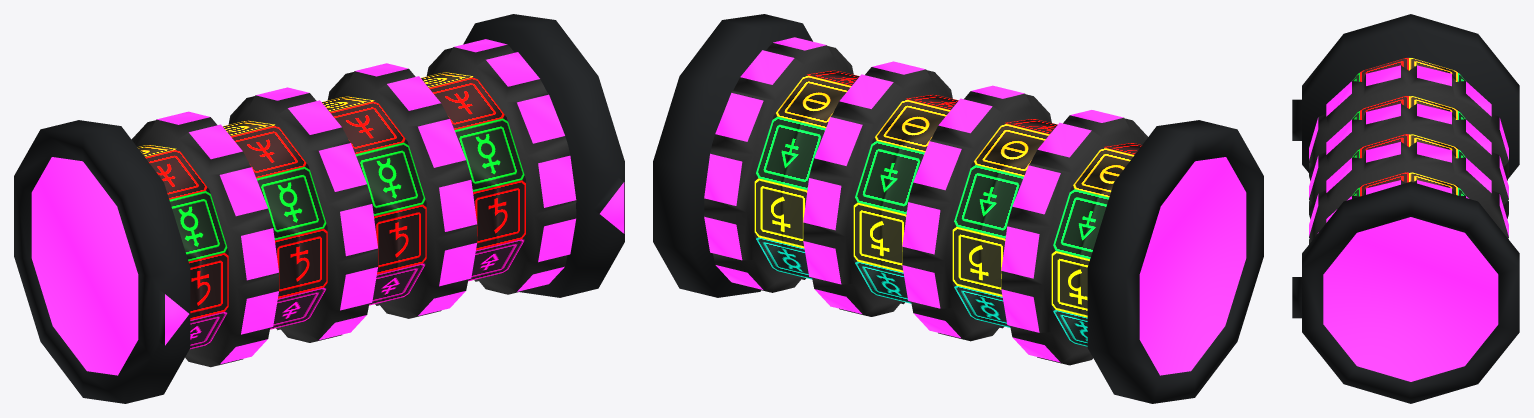
The model's file is Padlock_Roman_Numbers.glb.
3 views of the same model, side by side, from view 1: azimuth 30°, elevation 25°; view 2: azimuth 150°, elevation 25°; view 3: azimuth 270°, elevation 25° (orthographic). The views are drawn at different scales.
Parts seen in each view (by area): view 1: PiratePadlock_01_base, Cylinder.014, Cylinder.012, Cylinder.013, Cylinder.016; view 2: PiratePadlock_01_base, Cylinder.013, Cylinder.014, Cylinder.012, Cylinder.016; view 3: PiratePadlock_01_base, Cylinder.012, Cylinder.016, Cylinder.013, Cylinder.014.
Part boxes in pixels (x1,y1,x2,y2): PiratePadlock_01_base: [14, 14, 624, 403]; Cylinder.014: [421, 39, 576, 294]; Cylinder.012: [223, 87, 378, 342]; Cylinder.013: [321, 63, 477, 318]; Cylinder.016: [131, 111, 278, 367]; PiratePadlock_01_base: [653, 14, 1263, 403]; Cylinder.013: [803, 61, 958, 316]; Cylinder.014: [704, 37, 859, 292]; Cylinder.012: [902, 85, 1057, 341]; Cylinder.016: [1001, 110, 1147, 365]; PiratePadlock_01_base: [1292, 14, 1519, 403]; Cylinder.012: [1309, 95, 1508, 219]; Cylinder.016: [1309, 57, 1508, 180]; Cylinder.013: [1309, 133, 1508, 244]; Cylinder.014: [1317, 171, 1468, 233].
Size of the model in its own units: 0.5173 by 0.2743 by 0.2726.
4 materials, 1 textured.
